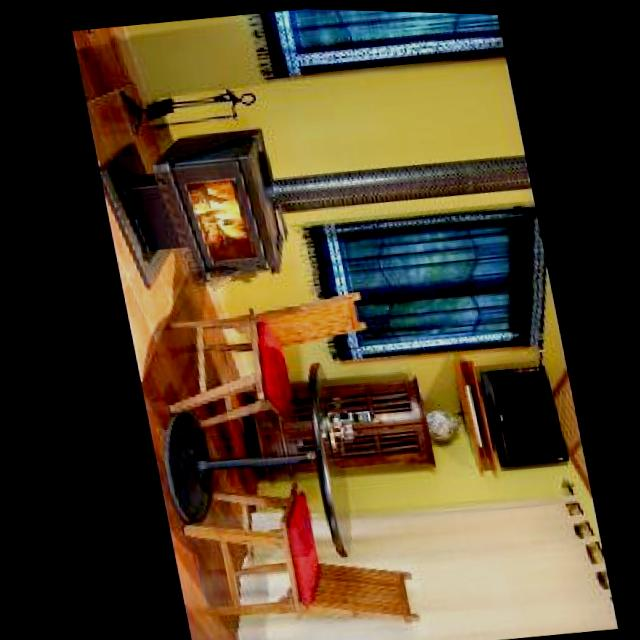helmet: (183, 174, 253, 264)
